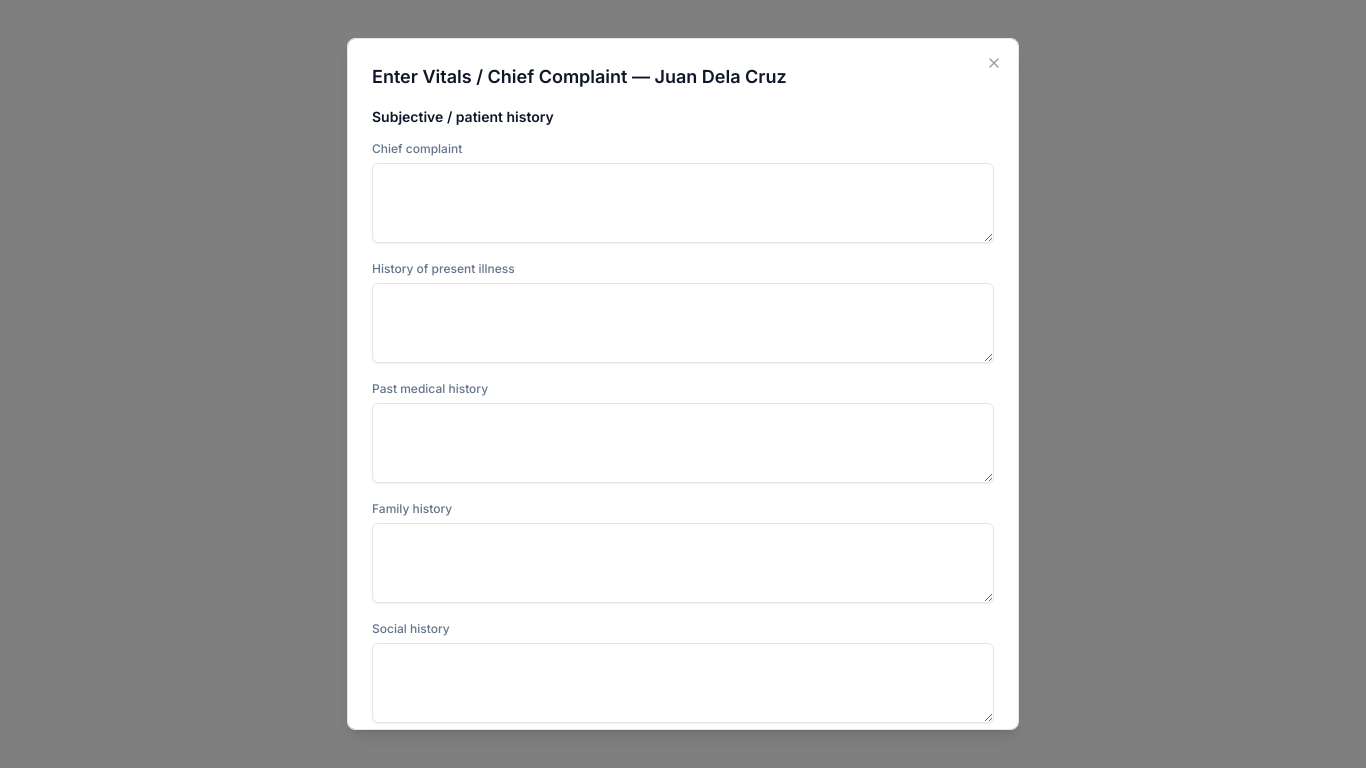
Test: ReceptionVitalsDialog - Chief complaint suggestions reuse Task #2 (Task #6) › shows learned suggestions first, then the static starters, on focus
Click the text box named "Chief complaint": {"x": 683, "y": 203} [372, 163, 994, 243]
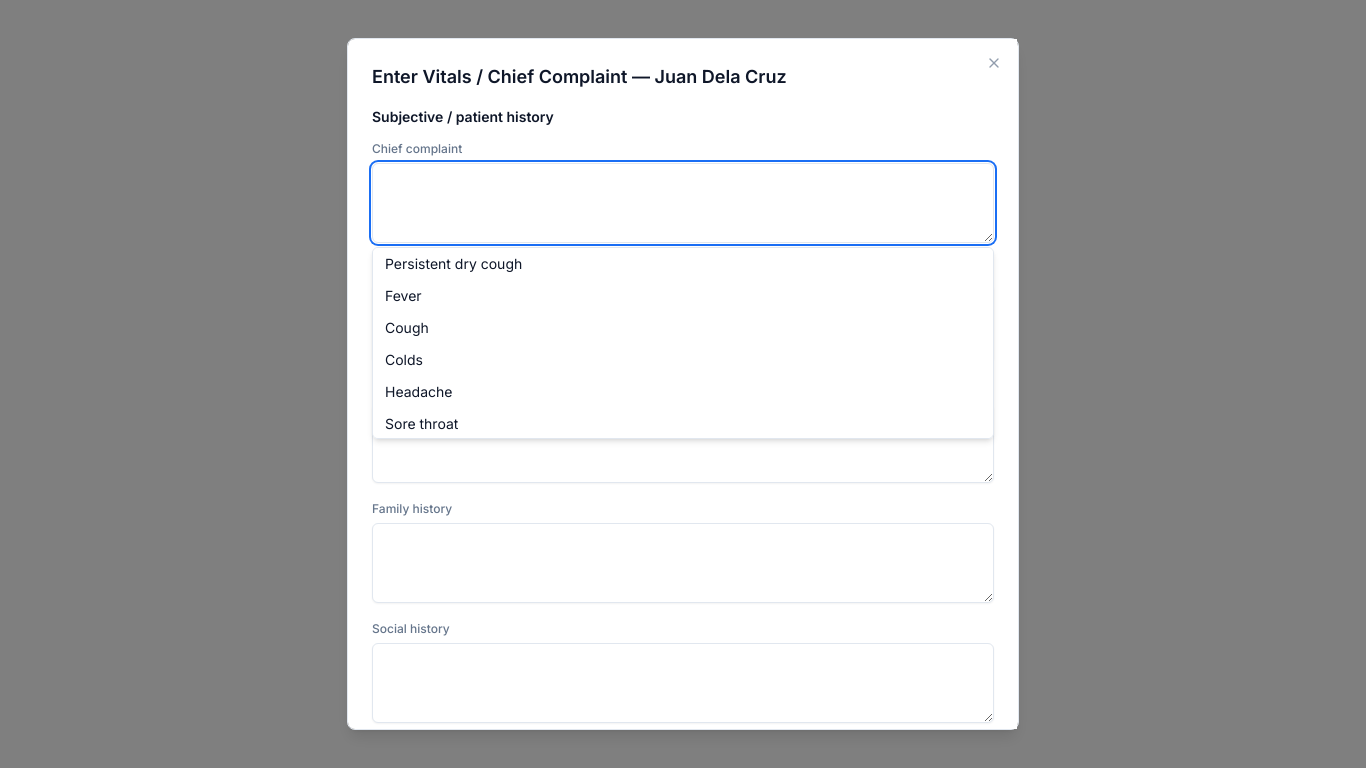
Now the button "Persistent dry cough" is shown, box [373, 248, 993, 280]
Now the button "Fever" is shown, box [373, 280, 993, 312]
